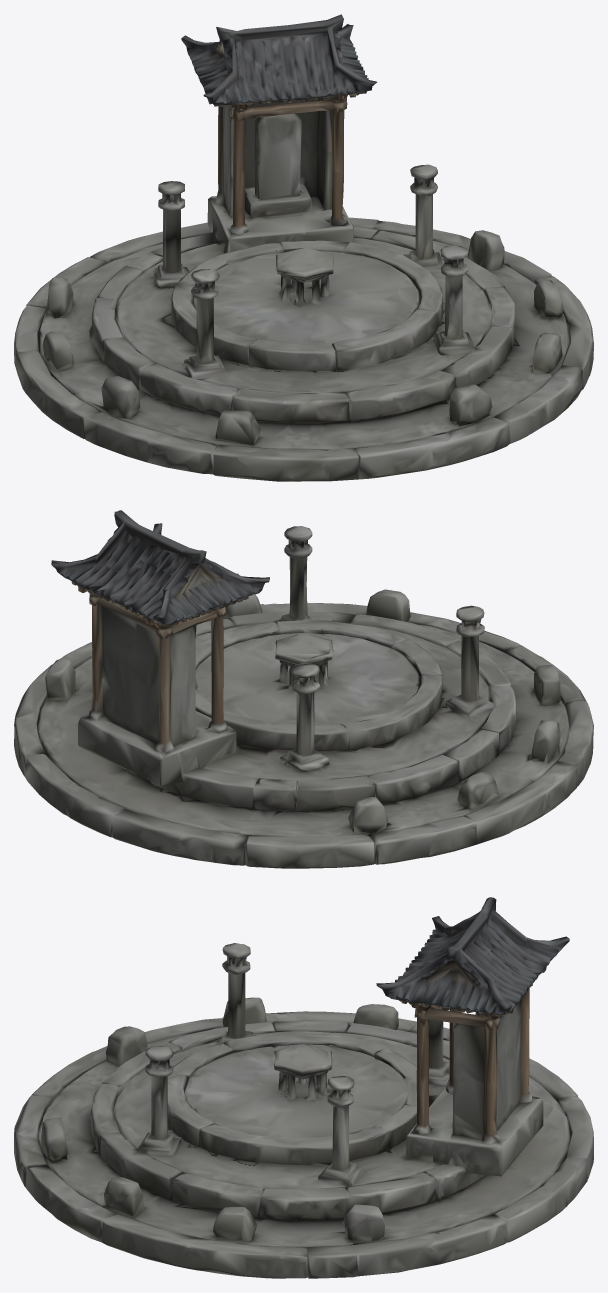
The model's file is station_神苑.glb.
3 views of the same model, one above another, from view 1: azimuth 30°, elevation 25°; view 2: azimuth 150°, elevation 25°; view 3: azimuth 270°, elevation 25° (orthographic).
Visible parts, largest first — view 1: tripo_node_955a3420-fa72-41eb-a8e2-867e98496183; view 2: tripo_node_955a3420-fa72-41eb-a8e2-867e98496183; view 3: tripo_node_955a3420-fa72-41eb-a8e2-867e98496183.
Boxes of the visible parts, x1=… form: tripo_node_955a3420-fa72-41eb-a8e2-867e98496183: x1=14, y1=14, x2=593, y2=481; tripo_node_955a3420-fa72-41eb-a8e2-867e98496183: x1=14, y1=510, x2=593, y2=868; tripo_node_955a3420-fa72-41eb-a8e2-867e98496183: x1=14, y1=897, x2=593, y2=1278.
Size of the model in its own units: 1.6 by 0.8029 by 1.6.
